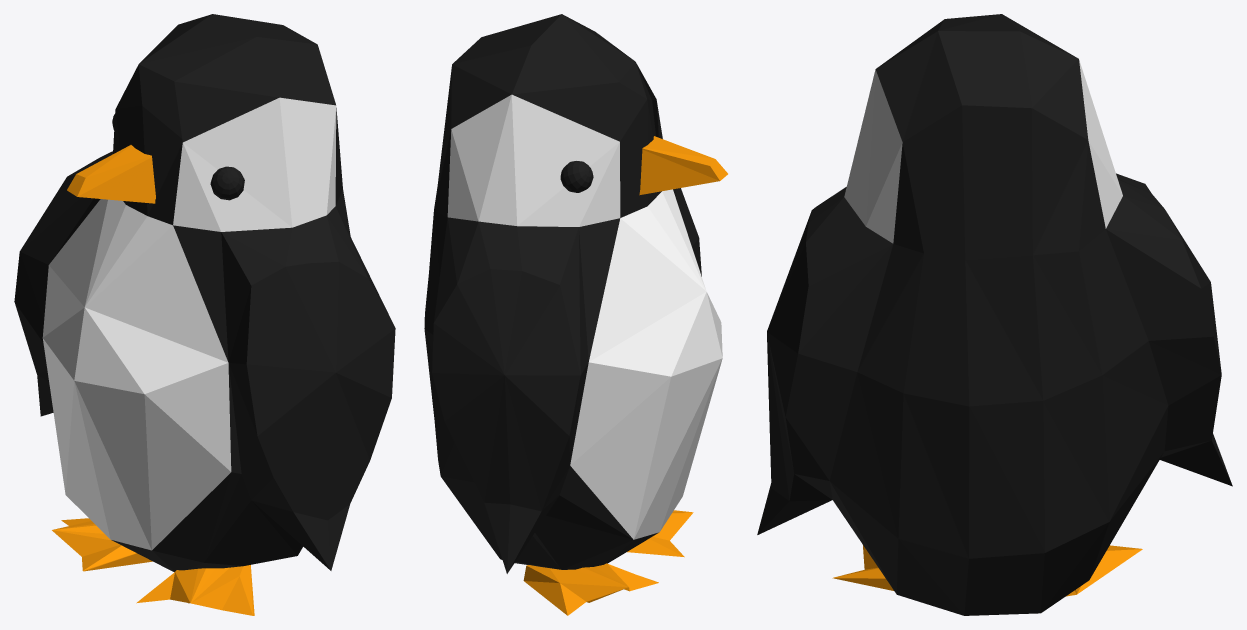
File: Penguin.obj
The picture shows the model from 3 angles, left to right: view 1: azimuth 30°, elevation 25°; view 2: azimuth 150°, elevation 25°; view 3: azimuth 270°, elevation 25°; orthographic projection. The views are drawn at different scales.
Parts seen in each view (by area): view 1: mesh2117380444; view 2: mesh2117380444; view 3: mesh2117380444.
Boxes of the visible parts, <box> form: mesh2117380444: <box>14,14,395,615</box>; mesh2117380444: <box>424,14,727,615</box>; mesh2117380444: <box>757,14,1232,615</box>.
Size of the model in its own units: 0.3678 by 0.6759 by 0.4997.
